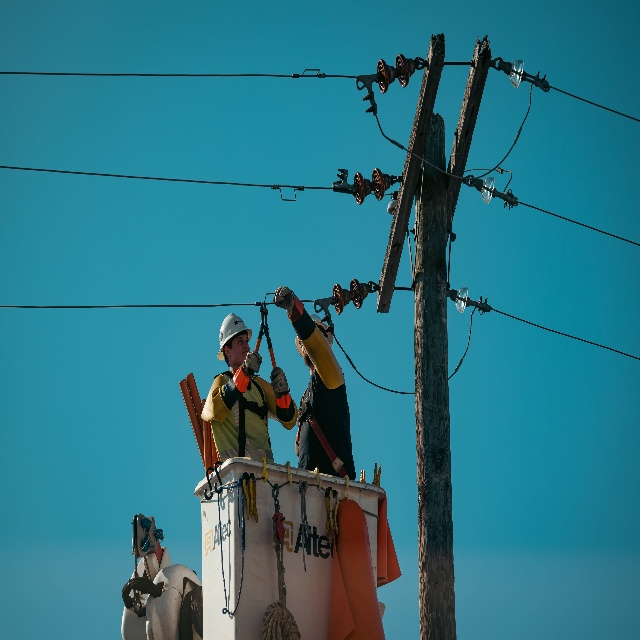Guantes: (222, 351, 264, 408), (270, 367, 294, 419), (274, 286, 303, 321)
